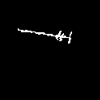treble_crochet: (18, 29, 71, 42)
